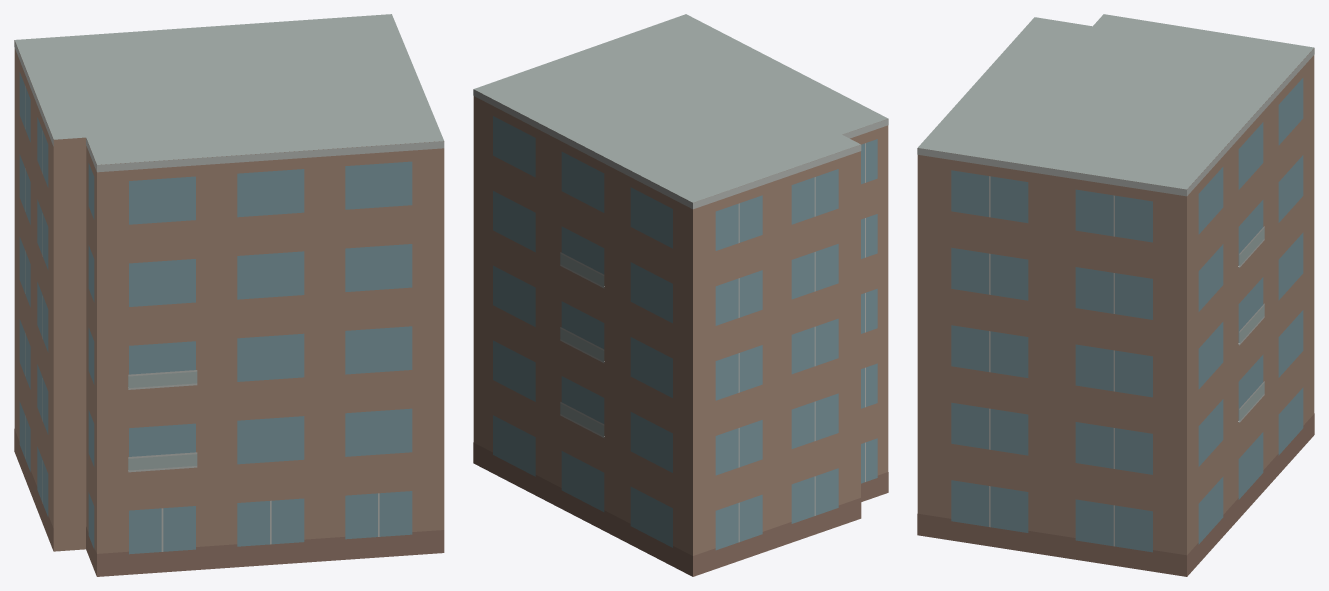
The model's file is survey-upis-32538084.glb.
3 views of the same model, side by side, from view 1: azimuth 30°, elevation 25°; view 2: azimuth 150°, elevation 25°; view 3: azimuth 270°, elevation 25° (orthographic). The views are drawn at different scales.
Parts seen in each view (by area): view 1: survey-upis-32538084.tmp; view 2: survey-upis-32538084.tmp; view 3: survey-upis-32538084.tmp.
Part boxes in pixels (box(x1,y1,x2,y2)): survey-upis-32538084.tmp: box(14, 14, 444, 576); survey-upis-32538084.tmp: box(473, 14, 888, 576); survey-upis-32538084.tmp: box(917, 14, 1314, 576).
Bounding box in the file's own units: 13.42 × 13.8 × 12.83.
